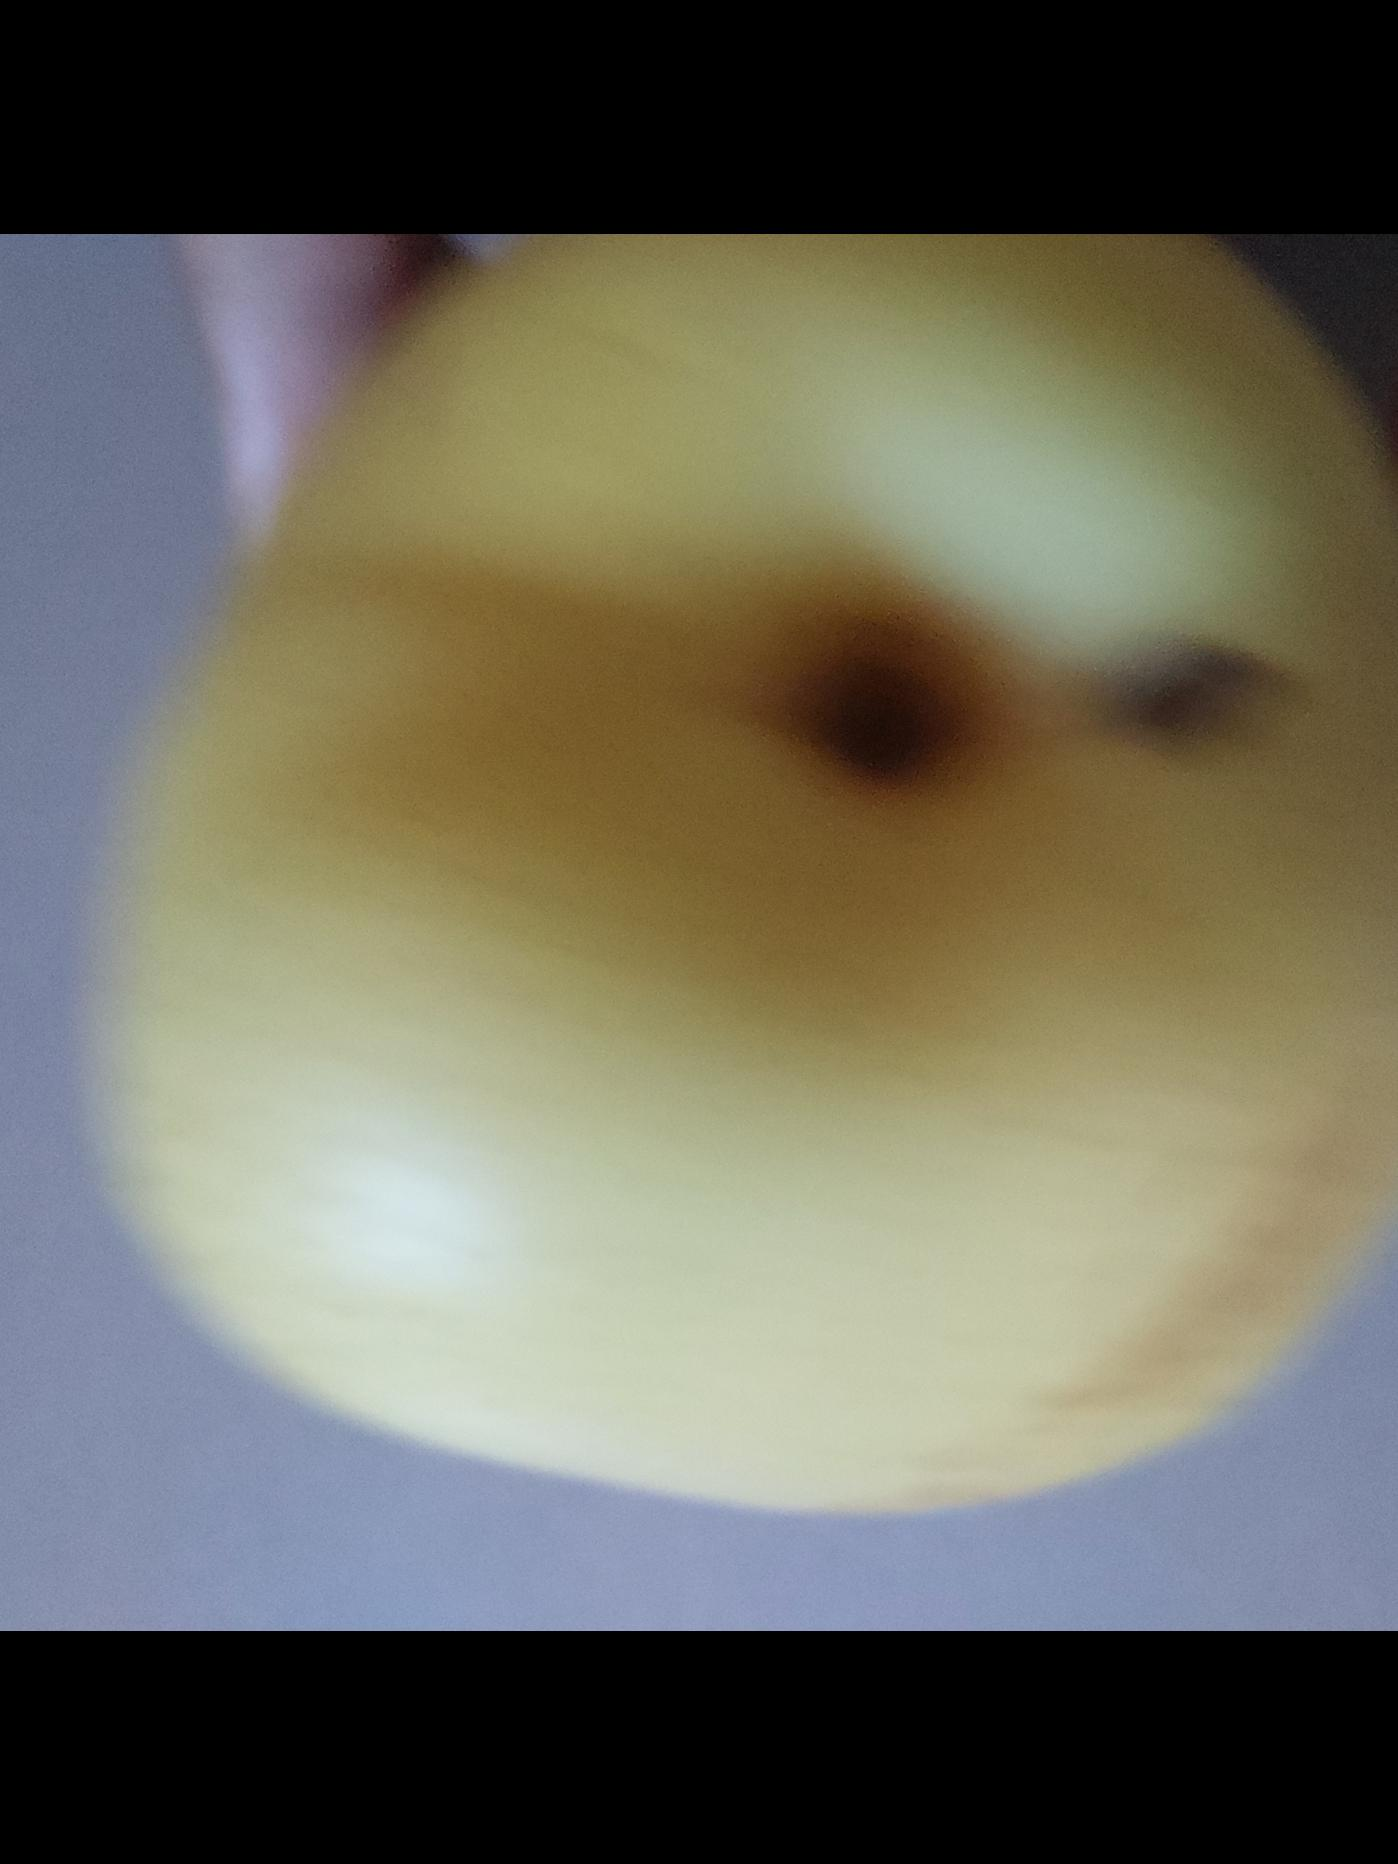Good Pear: (91, 233, 1398, 1543)
